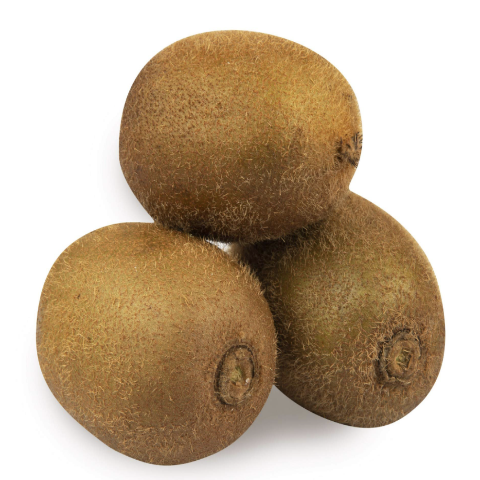kiwi: (22, 204, 301, 473), (95, 18, 367, 249), (219, 191, 436, 455)
